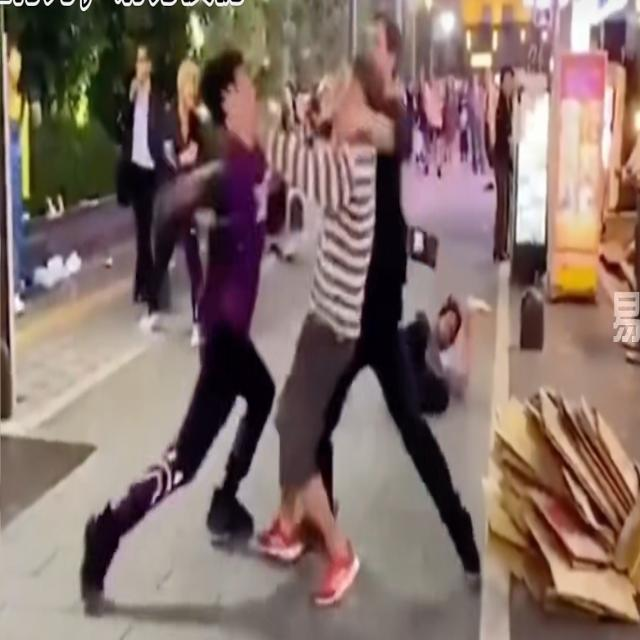fight: (192, 48, 390, 250)
nofight: (125, 41, 166, 304), (491, 65, 520, 279)
